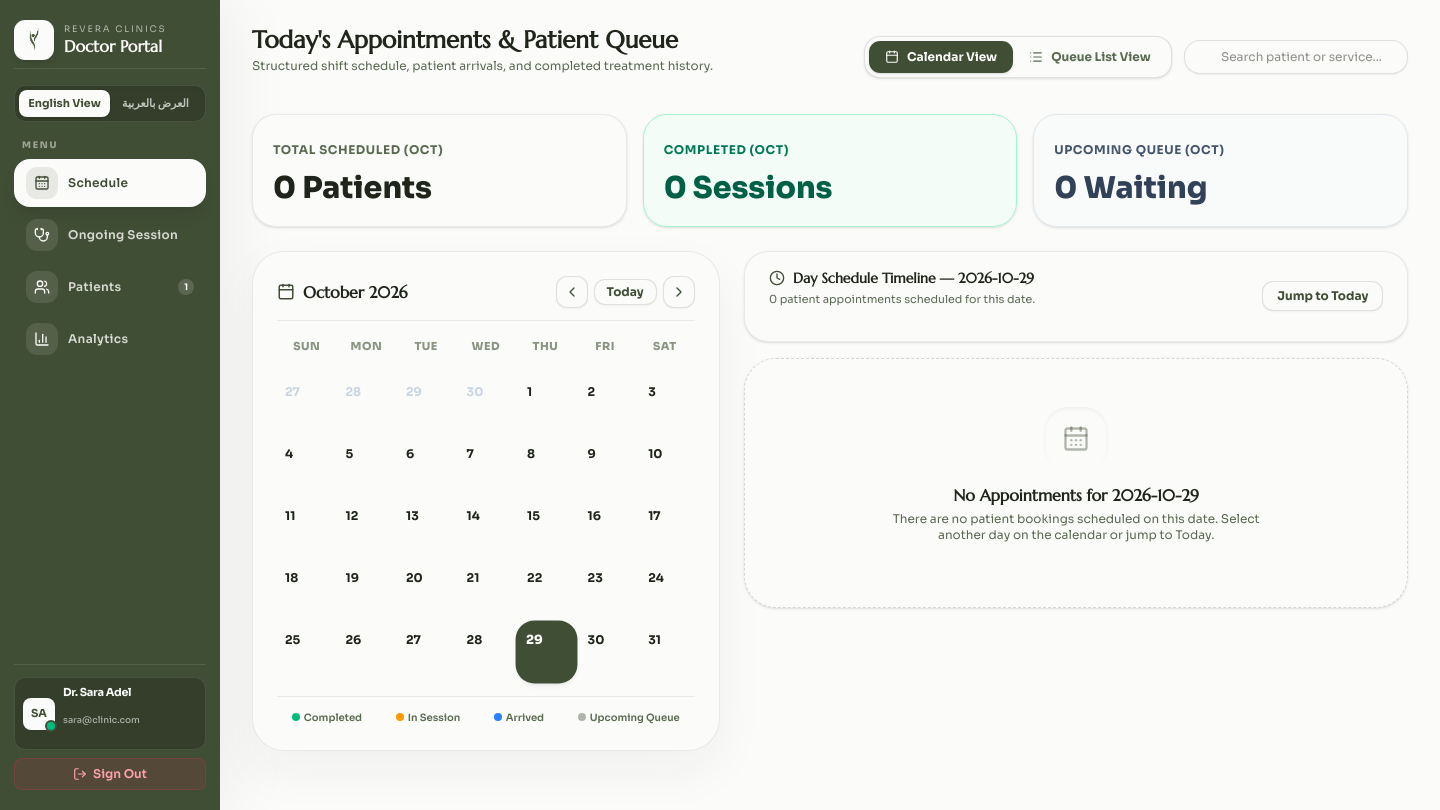
Test case: provider record comes from the profile API (RISK-128) › does not show a booking assigned to a different provider even when the doctor's name is on it
Click the button titled "Patients" at (110, 287), box [14,263,206,311]
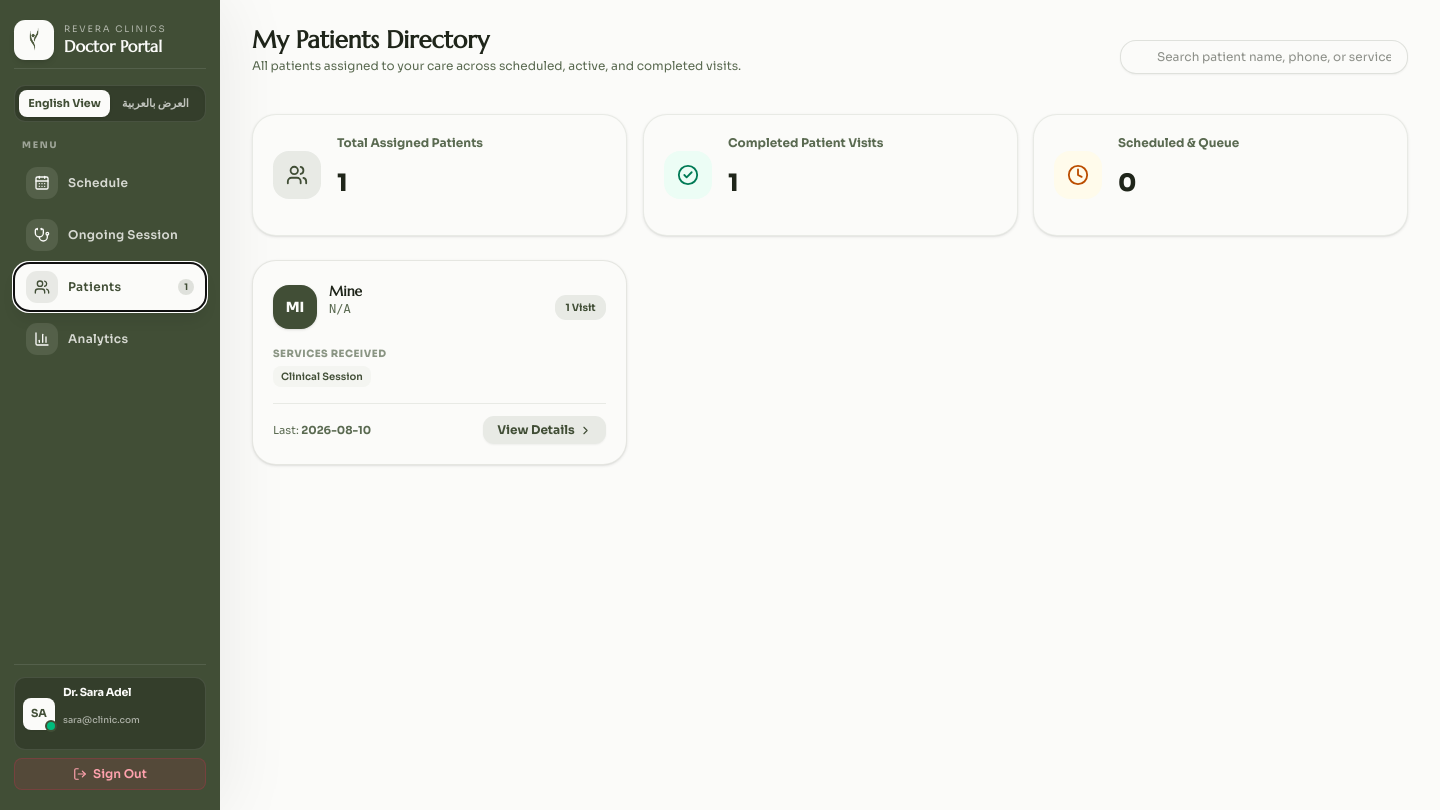
Check: the heading "Mine" is shown, box [329,281,362,301]
